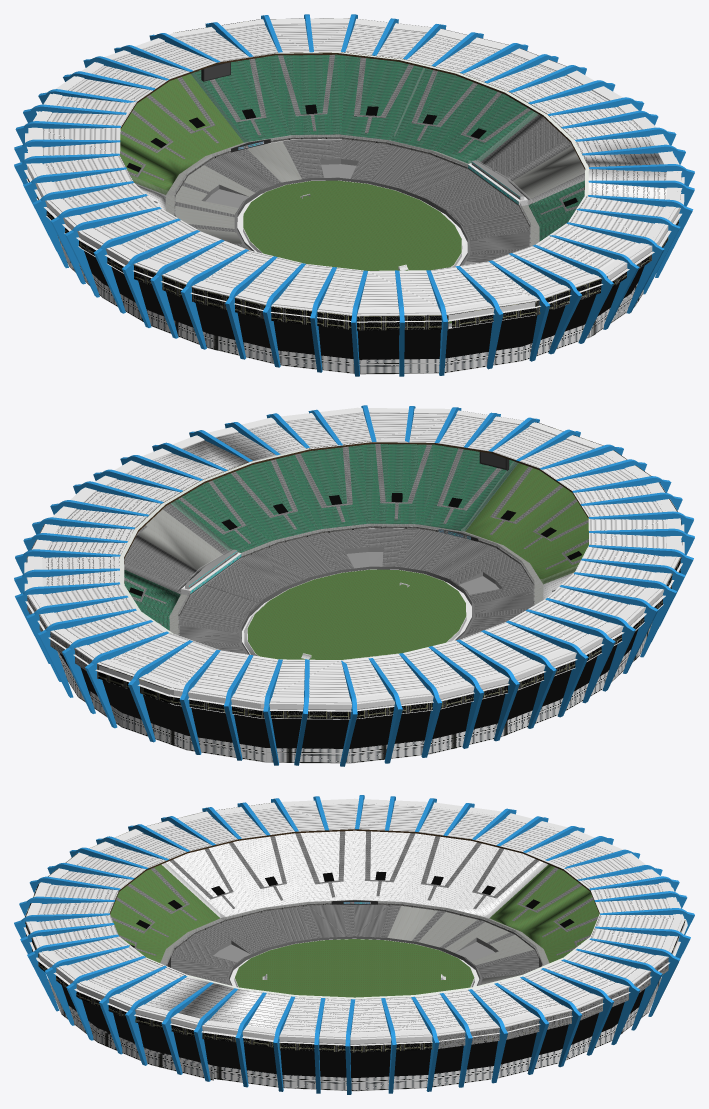
The model's file is Maracanã.dae.
3 views of the same model, one above another, from view 1: azimuth 30°, elevation 25°; view 2: azimuth 150°, elevation 25°; view 3: azimuth 270°, elevation 25° (orthographic). The views are drawn at different scales.
Parts seen in each view (by area): view 1: Model; view 2: Model; view 3: Model.
Part boxes in pixels (x1=…): Model: x1=14, y1=14, x2=694, y2=376; Model: x1=14, y1=405, x2=694, y2=766; Model: x1=14, y1=795, x2=694, y2=1094.
Bounding box in the file's own units: 533 × 611 × 84.22.
Materials: 34 (23 with a texture image).
